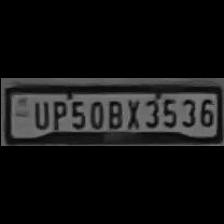0: (86, 97, 104, 129)
3: (142, 94, 160, 128), (178, 94, 196, 128)
5: (66, 98, 86, 130), (159, 94, 177, 128)
6: (196, 94, 218, 128)
B: (104, 97, 124, 129)
P: (47, 98, 66, 130)
U: (28, 98, 50, 130)
X: (122, 97, 142, 129)
